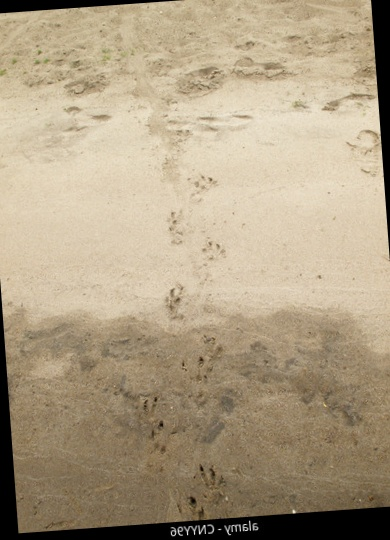beaver: (164, 457, 244, 529), (147, 245, 198, 330)
